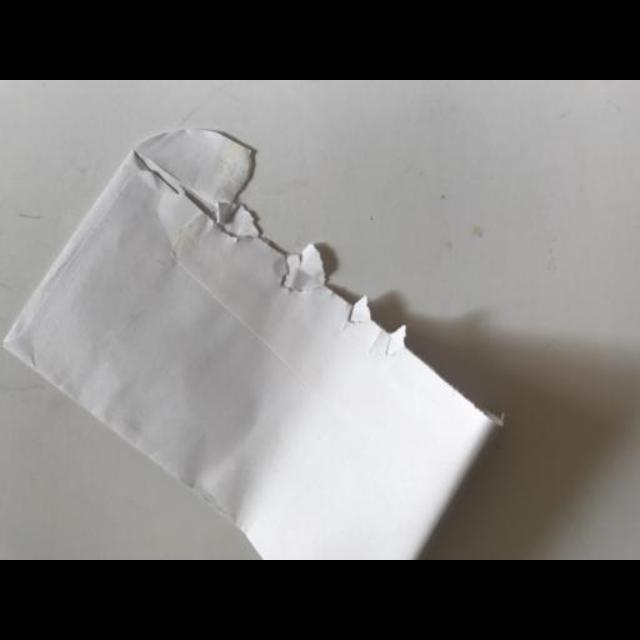papel: (4, 129, 502, 559)
